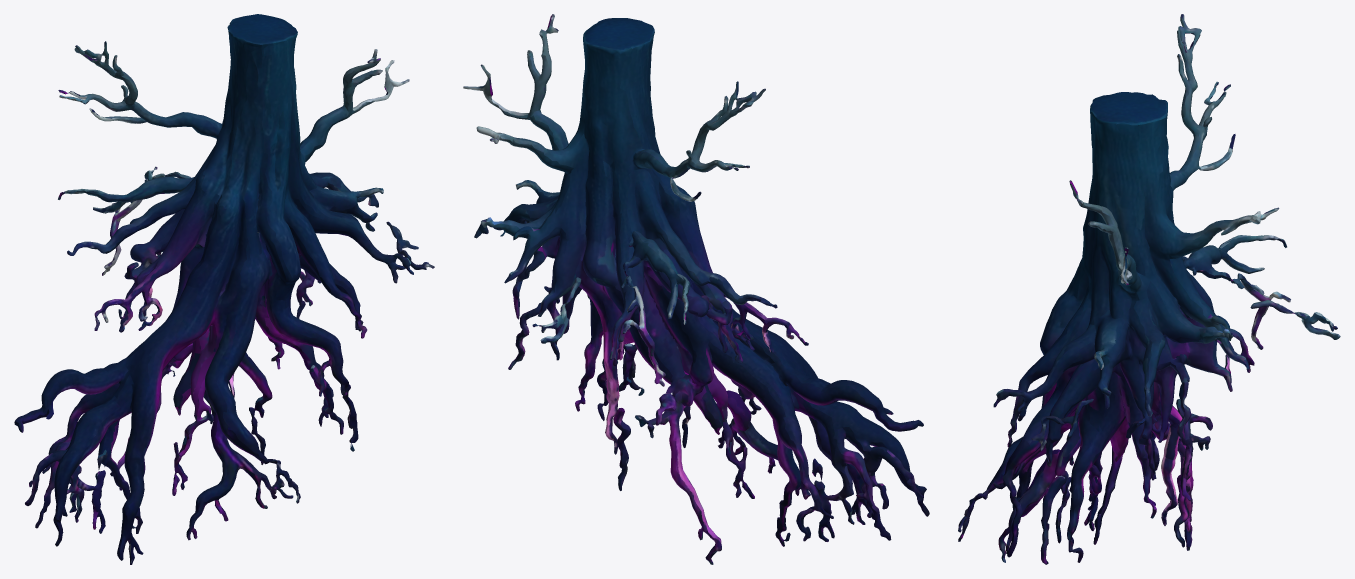
Rendered from sea-root-east-generated-2026-05-17T19-34-27-649Z.high.glb.
3 renders of one model, left to right at view 1: azimuth 30°, elevation 25°; view 2: azimuth 150°, elevation 25°; view 3: azimuth 270°, elevation 25°, orthographic. The views are drawn at different scales.
Parts seen in each view (by area): view 1: temp_mesh.ply; view 2: temp_mesh.ply; view 3: temp_mesh.ply.
Part boxes in pixels (x1,y1,x2,y2): temp_mesh.ply: [14, 14, 434, 564]; temp_mesh.ply: [463, 14, 929, 564]; temp_mesh.ply: [958, 14, 1340, 564].
Bounding box in the file's own units: 1.82 × 1.97 × 1.32.
1 material, 1 textured.
